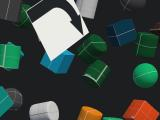Right: (26, 0, 89, 61)
